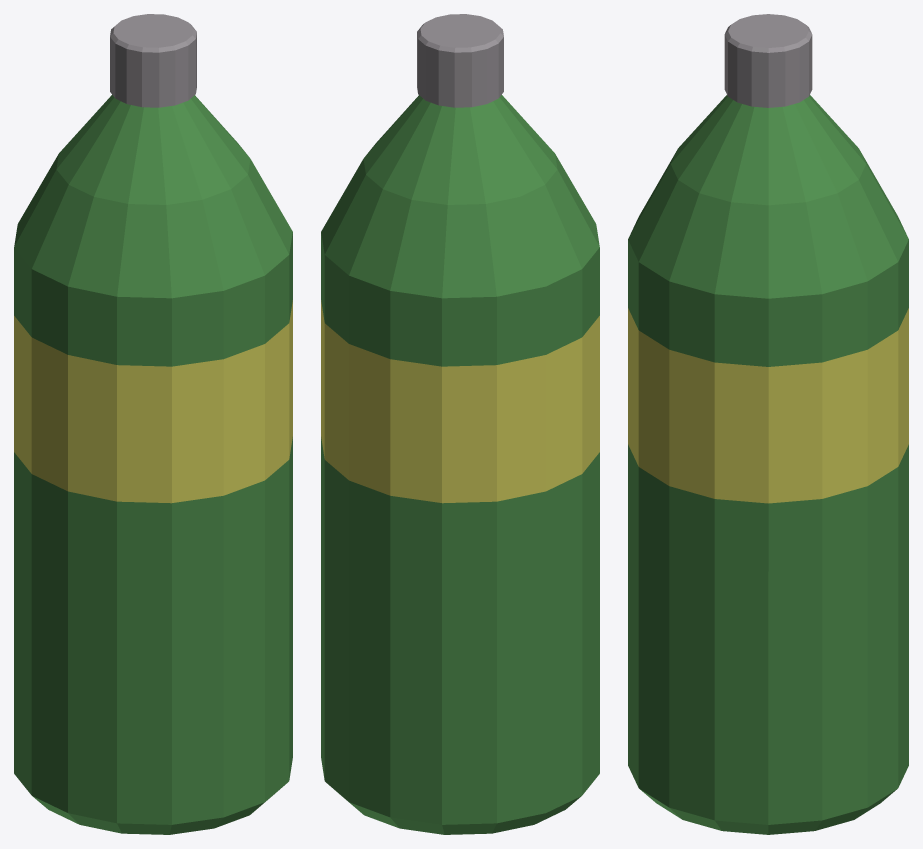
The model's file is Bottle.fbx.
3 renders of one model, left to right at view 1: azimuth 30°, elevation 25°; view 2: azimuth 150°, elevation 25°; view 3: azimuth 270°, elevation 25°, orthographic.
Parts seen in each view (by area): view 1: Cylinder; view 2: Cylinder; view 3: Cylinder.
Boxes of the visible parts, <box> form: Cylinder: <box>14,14,292,834</box>; Cylinder: <box>321,14,599,834</box>; Cylinder: <box>628,14,908,834</box>.
Bounding box in the file's own units: 200 × 591 × 200.
